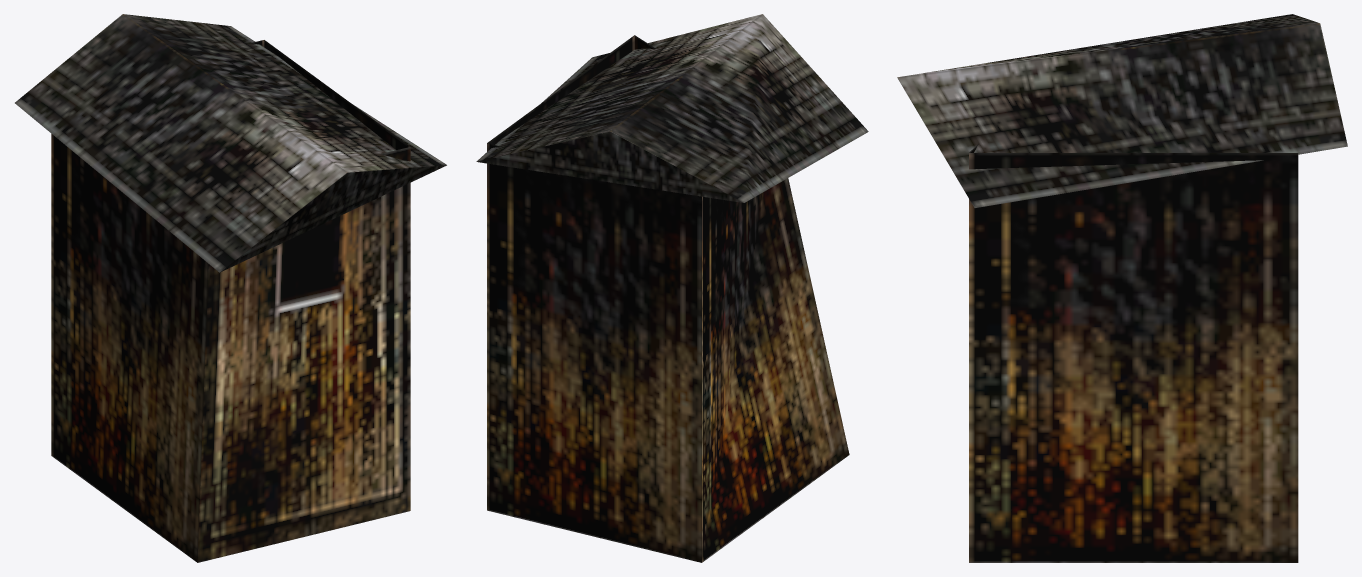
The model's file is Environment - Prop - Out House - Damaged - PMOUTHOUS_d.glb.
The picture shows the model from 3 angles, left to right: view 1: azimuth 30°, elevation 25°; view 2: azimuth 150°, elevation 25°; view 3: azimuth 270°, elevation 25°; orthographic projection. The views are drawn at different scales.
Parts seen in each view (by area): view 1: PMOUTHOUS_D; view 2: PMOUTHOUS_D; view 3: PMOUTHOUS_D.
Boxes of the visible parts, x1,y1,x2,y2 form: PMOUTHOUS_D: (15, 14, 446, 562); PMOUTHOUS_D: (476, 14, 868, 562); PMOUTHOUS_D: (897, 14, 1347, 562).
Bounding box in the file's own units: 12.39 × 16.83 × 14.72.
Materials: 1 (1 with a texture image).
